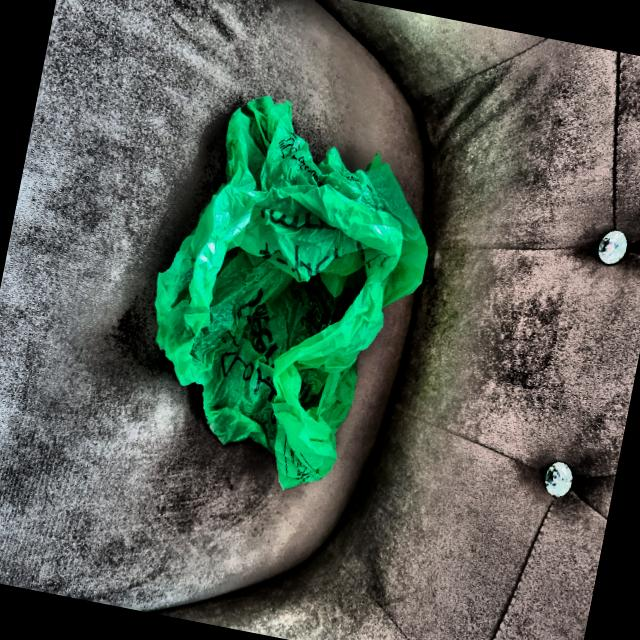plastic bag: (112, 70, 460, 508)
